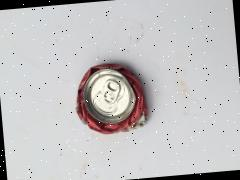metal: (50, 42, 181, 173)
